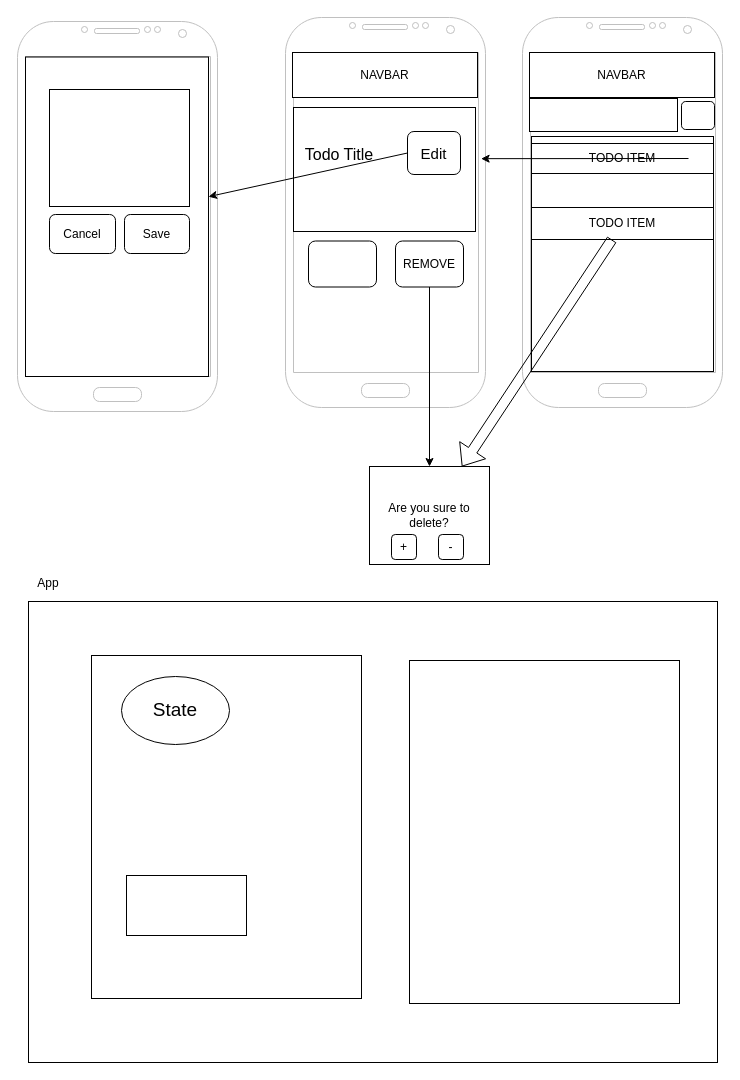
This 740x1080 diagram has some shape labels left out. The shapes that lost their labels are listed below. From the top down, each one's box as (x1, y1, x2, y2) in pixels, then its label:
(528, 98, 678, 132): TODO INPUT
(680, 100, 714, 130): Button
(48, 88, 190, 206): Text Input
(308, 240, 376, 287): BACK
(90, 654, 362, 998): 1 screen
(408, 660, 680, 1004): 2 screen
